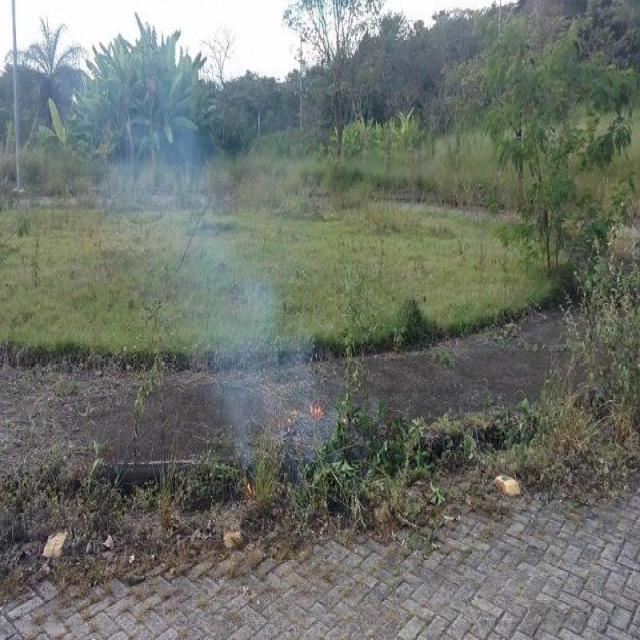Fire: (306, 396, 324, 419), (242, 482, 258, 500)
Smoke: (122, 128, 230, 418), (230, 278, 305, 476), (306, 422, 370, 484)
